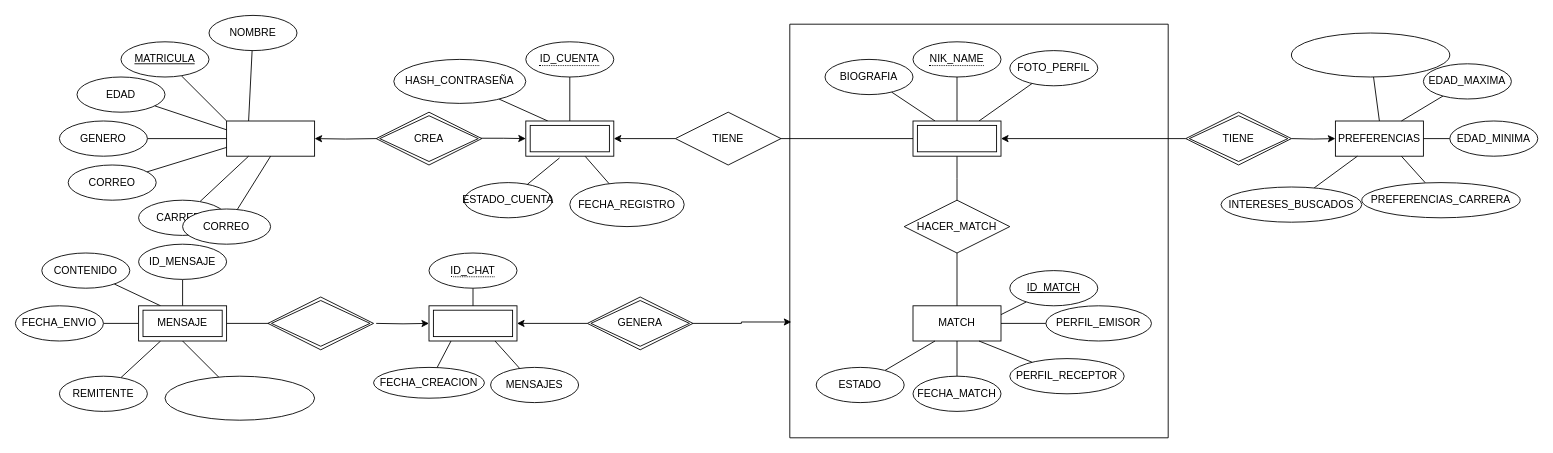
This 1553x453 diagram has some shape labels left out. The shapes that lost their labels are listed below. From the top down, each one's centre as x and y in pixels, then its label:
[1370,54]: PREFERENCIAS_GENERO
[270,138]: ALUMNO
[569,138]: CUENTA
[956,138]: PERFIL
[320,323]: CONTIENE
[472,323]: CHAT
[239,397]: CONFIRMACION_LECTURA
